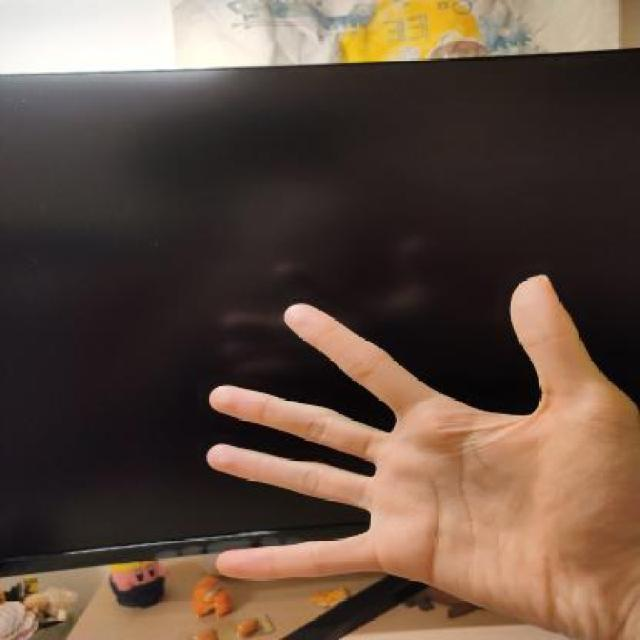no_glove: (202, 250, 640, 638)
